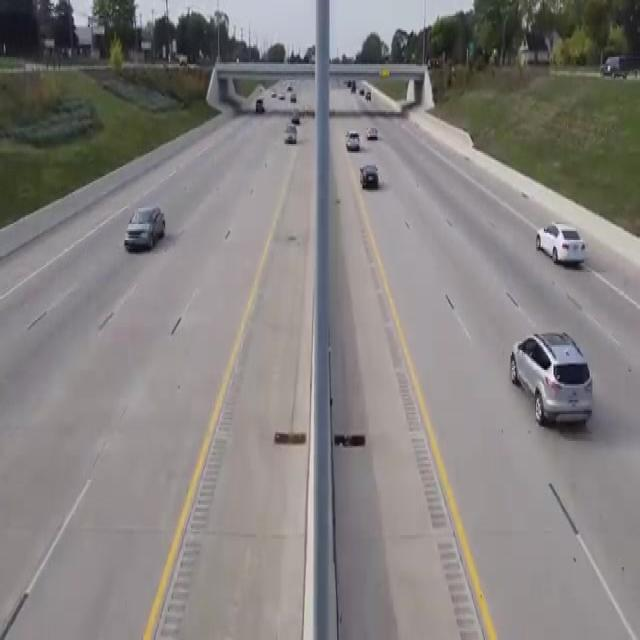car: (494, 327, 609, 437), (526, 213, 602, 271), (125, 202, 174, 262), (356, 160, 394, 210), (249, 91, 276, 126), (343, 129, 364, 157), (368, 122, 383, 150), (284, 128, 298, 151), (290, 110, 304, 128)
